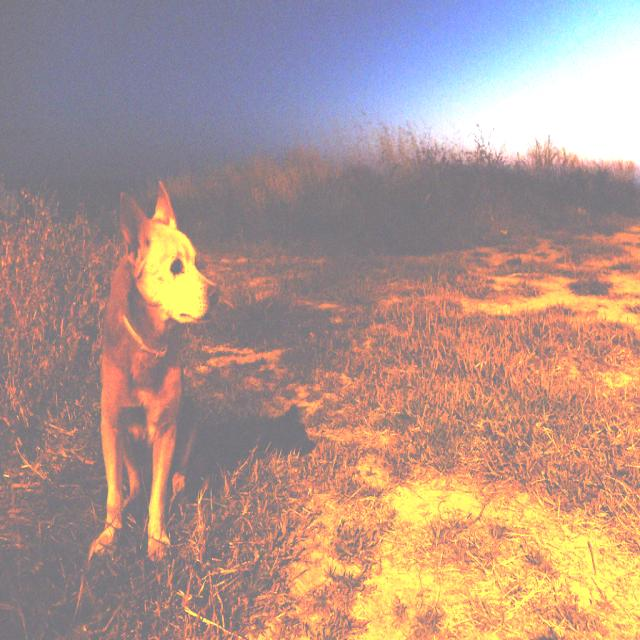Dog: (57, 168, 237, 582)
